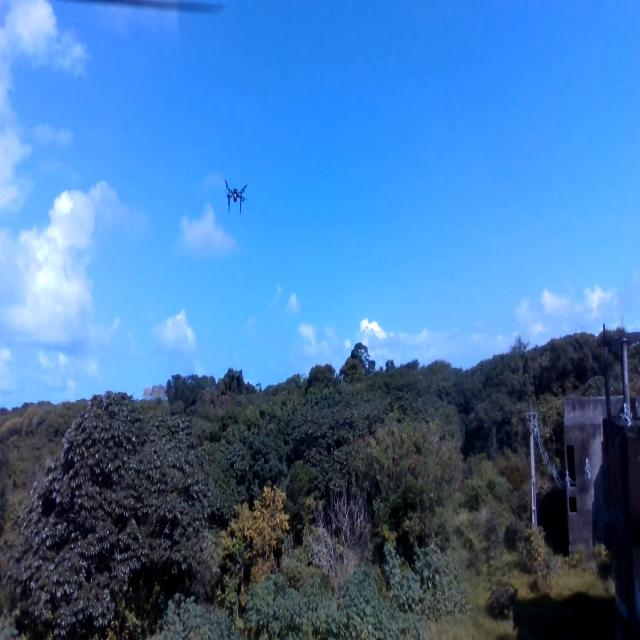-uav-: (221, 172, 252, 228)
